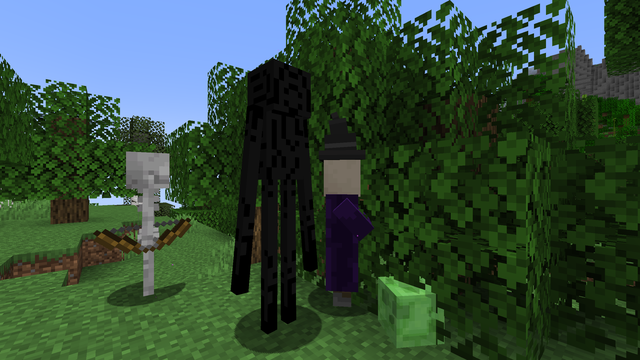endermens: (242, 46, 316, 349)
slimes: (373, 275, 431, 353)
sorcieres: (326, 152, 359, 313)
squelettes: (121, 151, 175, 303)
